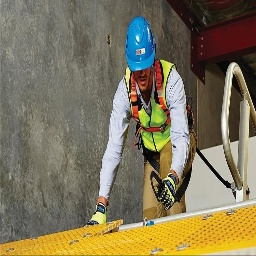helmet: (122, 14, 157, 73)
person: (97, 16, 199, 224)
vest: (124, 69, 174, 154)
